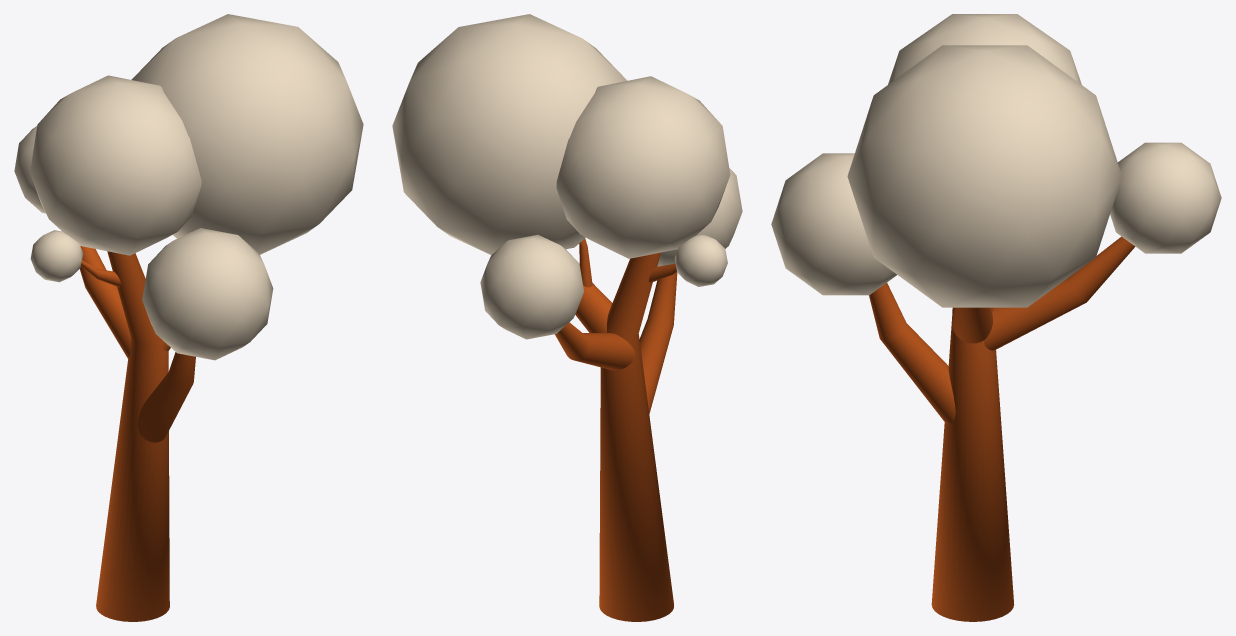
The model's file is ArbolM.fbx.
3 renders of one model, left to right at view 1: azimuth 30°, elevation 25°; view 2: azimuth 150°, elevation 25°; view 3: azimuth 270°, elevation 25°, orthographic. The views are drawn at different scales.
Parts seen in each view (by area): view 1: Icosphere; view 2: Icosphere; view 3: Icosphere.
Boxes of the visible parts, x1,y1,x2,y2 form: Icosphere: (14,14,363,621); Icosphere: (392,14,742,621); Icosphere: (771,14,1221,621).
Bounding box in the file's own units: 415 × 707 × 470.
